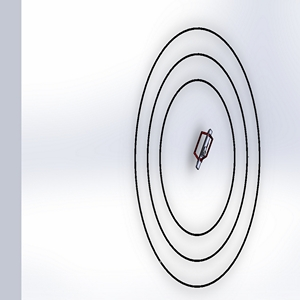circle: (118, 22, 281, 293)
submarine: (184, 122, 225, 177)
